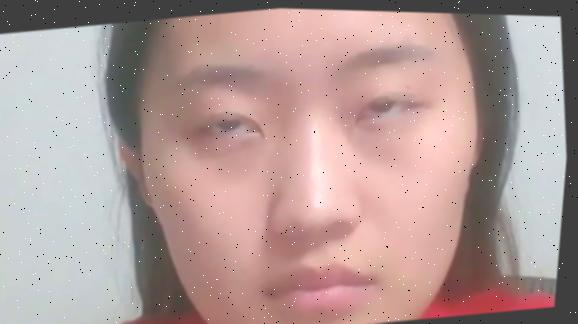eye: (366, 82, 400, 113), (215, 103, 246, 131)
iris: (358, 91, 414, 120), (208, 113, 265, 137)
